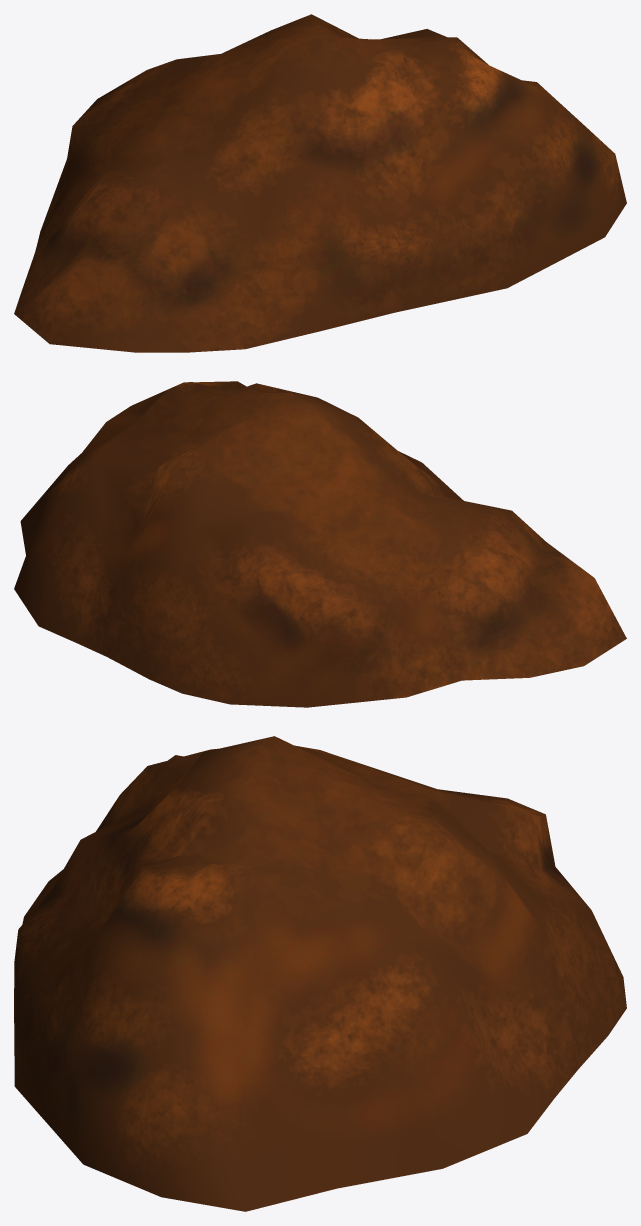
The model's file is pile.glb.
3 views of the same model, one above another, from view 1: azimuth 30°, elevation 25°; view 2: azimuth 150°, elevation 25°; view 3: azimuth 270°, elevation 25° (orthographic). The views are drawn at different scales.
Visible parts, largest first — view 1: Pile; view 2: Pile; view 3: Pile.
Boxes of the visible parts, x1,y1,x2,y2 form: Pile: [14, 14, 626, 352]; Pile: [14, 381, 626, 707]; Pile: [14, 736, 626, 1211].
Size of the model in its own units: 3.11 by 1.04 by 2.05.
Materials: 1 (1 with a texture image).
